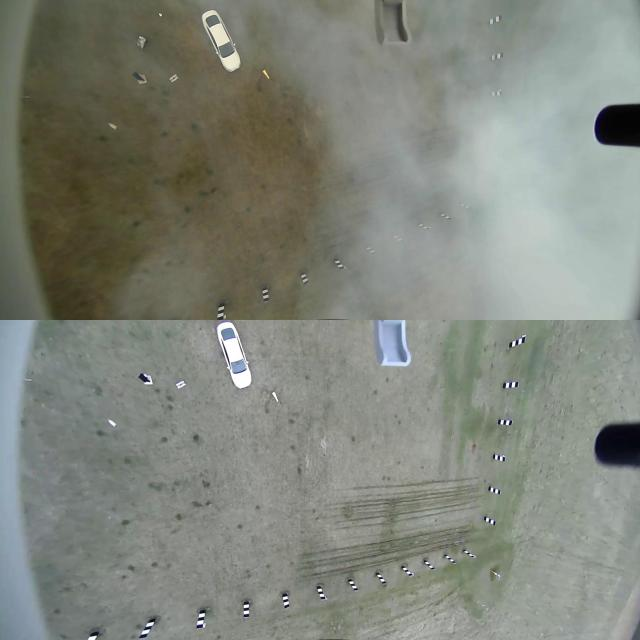car: (204, 313, 270, 401), (202, 7, 240, 73)
